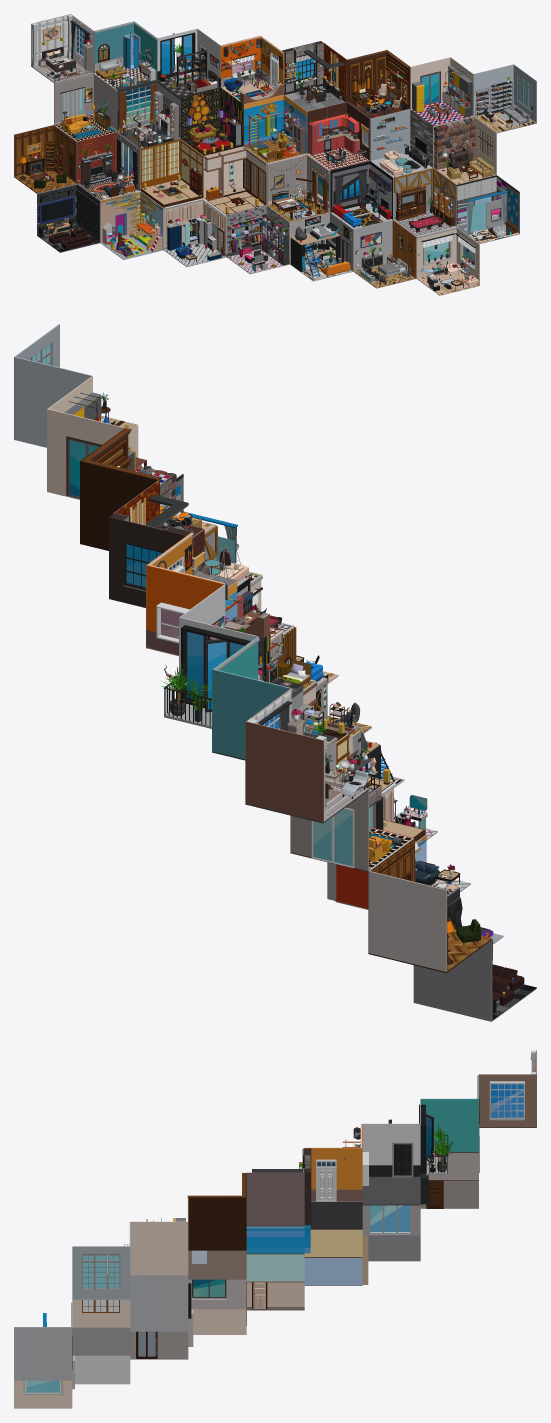
Rendered from SM_LowPoly30Rooms.fbx.
3 renders of one model, top to bottom at view 1: azimuth 30°, elevation 25°; view 2: azimuth 150°, elevation 25°; view 3: azimuth 270°, elevation 25°, orthographic. The views are drawn at different scales.
Parts seen in each view (by area): view 1: SM_WallBack_01 (×2), SM_WallBackWhite_01 (×2), SM_WallPanelsCornerBrownClassic_01, SM_KitchenSetSalmon_01, SM_WallBackStones_01, SM_WallBackStripesWhite_01, SM_WallBackStripesYellowBlue_01, SM_WallStripesBackDarkLightGrey_01, SM_WallBackWhiteBrown_01, SM_PatternRhombRed_01, SM_WallRightWhite_01 (×2), SM_PanelsCornerLightBrown_01 (+100 smaller); view 2: SM_WallBackBrown_01 (×2), SM_WallBrownBack_01, SM_WallBackLightGrey_01, SM_WallBackGrey_01, SM_WallBlueBack_01, SM_WallBackWhite_01, SM_WallBackOrange_01, SM_WallBackLightBeige_01, SM_WallGreyBack_01, SM_WindowRightBlack_01, SM_PatternRhombRed_01, SM_WindowWhiteLeft_01 (+11 smaller); view 3: SM_WallRightWhite_01 (×5), SM_WallRightGrey_01 (×3), SM_WallRightBrown_01, SM_WallRightBeigeOffice_01, SM_WalRightLightBeige_01, SM_WallCyanRight_01, SM_WallRightBlackWhite_01, SM_WallRightDandelion_01, SM_WallWindowRight_01, SM_WallWindowBrownRight_01, SM_WallStripesOrangeBlue_01, SM_WallRightStripWhiteGray_01 (+22 smaller).
Part boxes in pixels (x1,y1,x2,y2): SM_WallBack_01 (×2): (180, 87, 392, 271); SM_WallBackWhite_01 (×2): (203, 64, 513, 197); SM_WallPanelsCornerBrownClassic_01: (14, 125, 76, 182); SM_KitchenSetSalmon_01: (308, 114, 359, 155); SM_WallBackStones_01: (434, 117, 476, 169); SM_WallBackStripesWhite_01: (370, 110, 410, 160); SM_WallBackStripesYellowBlue_01: (244, 94, 283, 144); SM_WallStripesBackDarkLightGrey_01: (267, 153, 306, 204); SM_WallBackWhiteBrown_01: (141, 139, 179, 181); SM_PatternRhombRed_01: (77, 132, 116, 183); SM_WallRightWhite_01 (×2): (243, 146, 393, 219); SM_PanelsCornerLightBrown_01: (166, 201, 224, 231); SM_WallBackBrown_01 (×2): (81, 461, 191, 607); SM_WallBrownBack_01: (246, 721, 323, 822); SM_WallBackLightGrey_01: (369, 871, 446, 971); SM_WallBackGrey_01: (414, 939, 492, 1020); SM_WallBlueBack_01: (213, 669, 290, 759); SM_WallBackWhite_01: (15, 357, 92, 446); SM_WallBackOrange_01: (147, 565, 224, 654); SM_WallBackLightBeige_01: (48, 409, 125, 495); SM_WallGreyBack_01: (291, 778, 368, 871); SM_WindowRightBlack_01: (184, 630, 207, 704); SM_PatternRhombRed_01: (336, 827, 413, 908); SM_WindowWhiteLeft_01: (332, 807, 354, 868); SM_WallRightWhite_01 (×5): (14, 1254, 304, 1379); SM_WallRightGrey_01 (×3): (72, 1235, 420, 1355); SM_WallRightBrown_01: (188, 1197, 246, 1250); SM_WallRightBeigeOffice_01: (246, 1172, 304, 1225); SM_WalRightLightBeige_01: (130, 1221, 188, 1274); SM_WallCyanRight_01: (420, 1099, 478, 1151); SM_WallRightBlackWhite_01: (362, 1123, 420, 1176); SM_WallRightDandelion_01: (305, 1148, 362, 1200); SM_WallWindowRight_01: (72, 1246, 130, 1299); SM_WallWindowBrownRight_01: (479, 1074, 536, 1127); SM_WallStripesOrangeBlue_01: (246, 1226, 304, 1253); SM_WallRightStripWhiteGray_01: (362, 1177, 420, 1204).
Bounding box in the file's own units: 3608 × 3601 × 1606.
